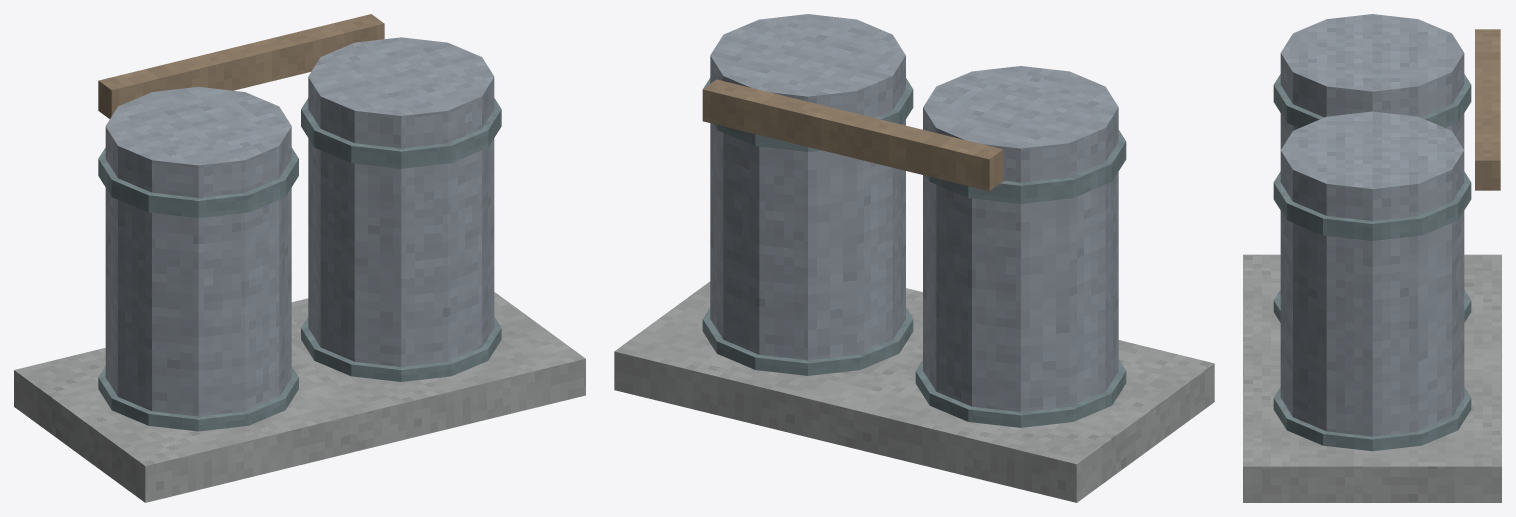
File: level_blockout_lighthouse_oil_storage.glb
3 views of the same model, side by side, from view 1: azimuth 30°, elevation 25°; view 2: azimuth 150°, elevation 25°; view 3: azimuth 270°, elevation 25° (orthographic). The views are drawn at different scales.
Visible parts, largest first — view 1: level_blockout_lighthouse_oil_storage; view 2: level_blockout_lighthouse_oil_storage; view 3: level_blockout_lighthouse_oil_storage.
Part boxes in pixels (x1,y1,x2,y2): level_blockout_lighthouse_oil_storage: (14,14,585,502); level_blockout_lighthouse_oil_storage: (614,14,1214,502); level_blockout_lighthouse_oil_storage: (1243,14,1501,502).
Bounding box in the file's own units: 2.13 × 1.41 × 1.1.
Materials: 4 (4 with a texture image).
